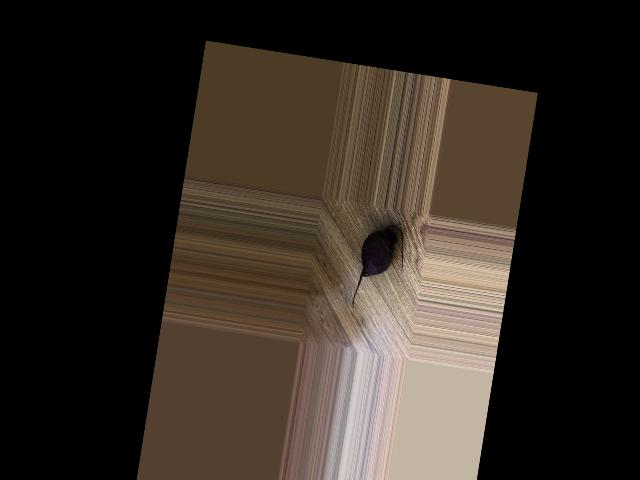beet: (351, 221, 408, 315)
